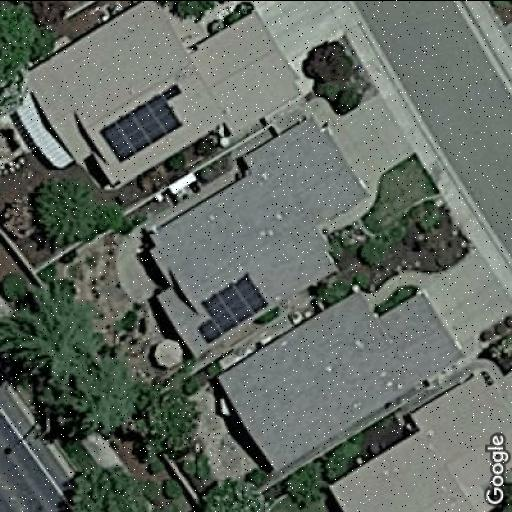solar-panel: (98, 82, 192, 163), (196, 270, 268, 342)
